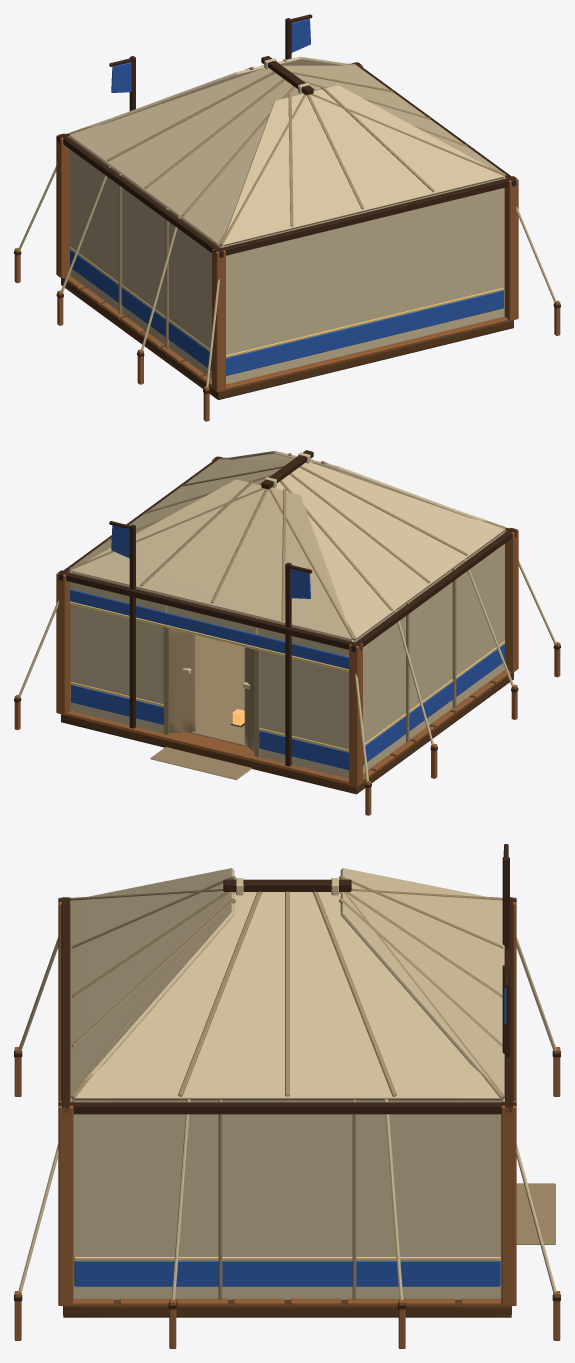
File: 豪华帐篷.glb
3 renders of one model, top to bottom at view 1: azimuth 30°, elevation 25°; view 2: azimuth 150°, elevation 25°; view 3: azimuth 270°, elevation 25°, orthographic. The views are drawn at different scales.
Parts seen in each view (by area): view 1: BR-canvas, BR-wood_warm, BR-team, BR-wood_dark, BR-canvas_dark, BR-wood_mid, BR-site_rope, BR-team_trim; view 2: BR-canvas, BR-canvas_dark, BR-team, BR-wood_warm, BR-wood_dark, BR-wood_mid, BR-site_rope, BR-team_trim; view 3: BR-canvas, BR-canvas_dark, BR-wood_warm, BR-wood_dark, BR-team, BR-wood_mid, BR-site_rope, BR-team_trim.
Boxes of the visible parts, box(x1,y1,x2,y2) form: BR-canvas: box(69, 56, 505, 384); BR-wood_warm: box(14, 62, 560, 421); BR-team: box(70, 18, 503, 375); BR-wood_dark: box(14, 14, 560, 393); BR-canvas_dark: box(69, 59, 505, 348); BR-wood_mid: box(61, 278, 513, 399); BR-site_rope: box(18, 58, 556, 386); BR-team_trim: box(70, 247, 504, 357); BR-canvas: box(69, 451, 505, 778); BR-canvas_dark: box(69, 453, 505, 779); BR-team: box(70, 525, 504, 770); BR-wood_warm: box(14, 456, 560, 815); BR-wood_dark: box(14, 450, 560, 787); BR-wood_mid: box(61, 672, 513, 794); BR-site_rope: box(18, 452, 556, 780); BR-team_trim: box(70, 601, 504, 751); BR-canvas: box(70, 868, 504, 1299); BR-canvas_dark: box(70, 875, 555, 1299); BR-wood_warm: box(14, 897, 560, 1348); BR-wood_dark: box(14, 844, 560, 1309); BR-team: box(74, 851, 506, 1286); BR-wood_mid: box(63, 1300, 511, 1317); BR-site_rope: box(18, 878, 556, 1299); BR-team_trim: box(74, 1257, 500, 1260).
Size of the model in its own units: 6.53 by 3.89 by 5.73.
